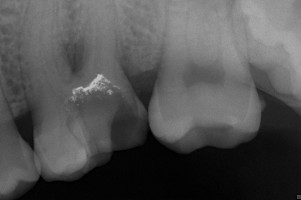Endo-Periodontal Lesion: (59, 38, 88, 73)
